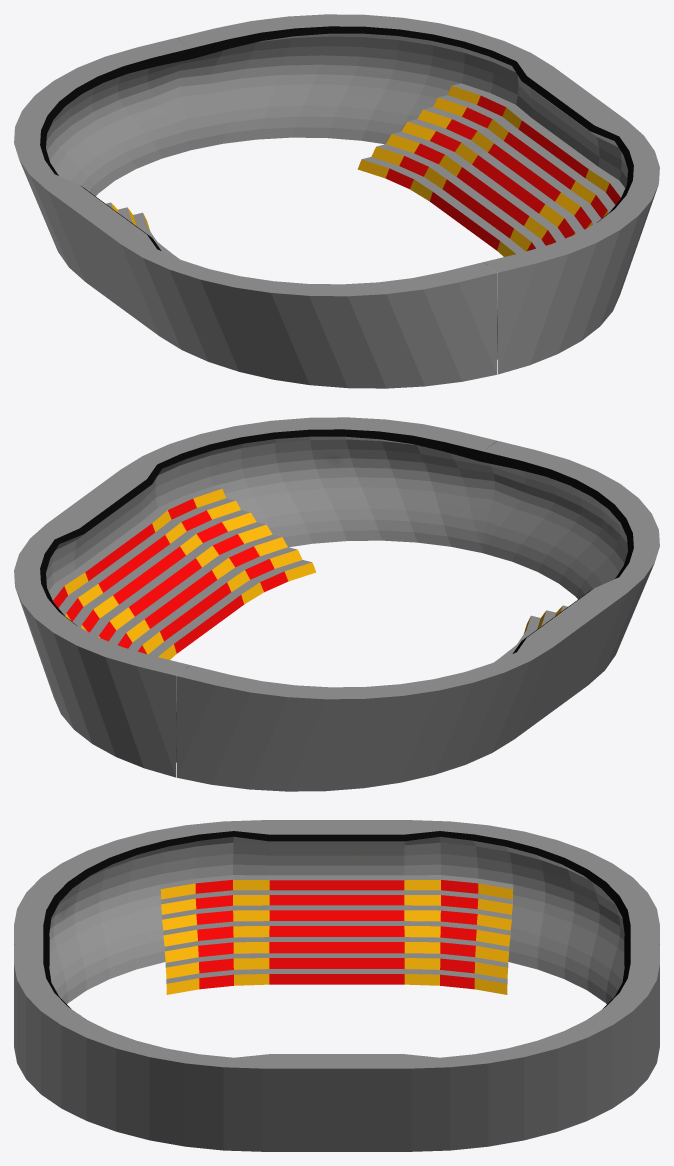
File: Stadium.fbx
3 renders of one model, top to bottom at view 1: azimuth 30°, elevation 25°; view 2: azimuth 150°, elevation 25°; view 3: azimuth 270°, elevation 25°, orthographic.
Parts seen in each view (by area): view 1: Plane; view 2: Plane; view 3: Plane.
Boxes of the visible parts, x1,y1,x2,y2 form: Plane: [14, 14, 659, 388]; Plane: [14, 417, 659, 791]; Plane: [14, 820, 659, 1151].
Bounding box in the file's own units: 260 × 50 × 286.
